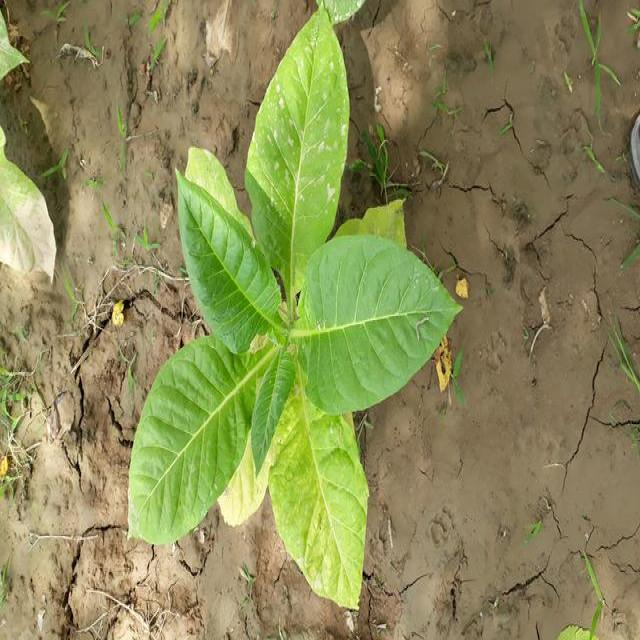crop: (130, 10, 458, 618), (0, 127, 60, 342)
